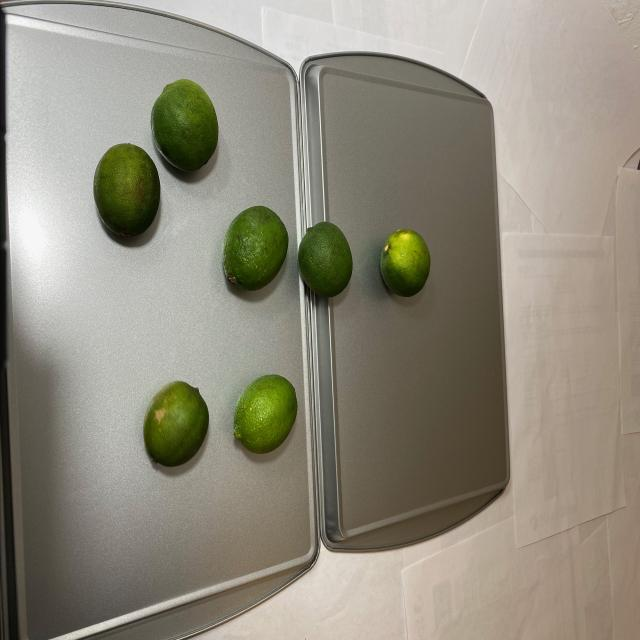lemon: (99, 79, 434, 307), (144, 372, 294, 476)
